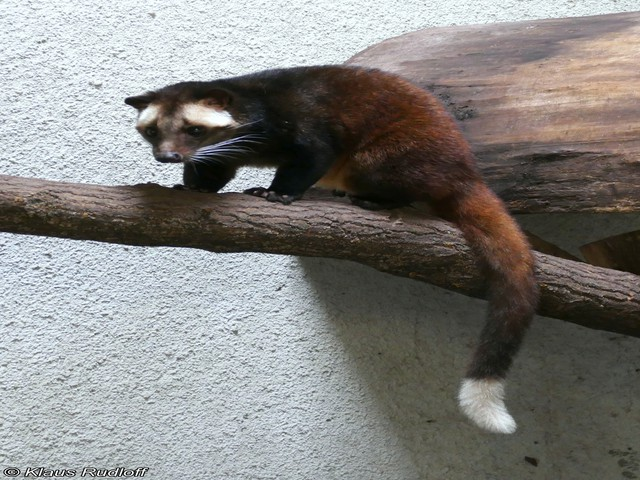civet: (121, 64, 540, 436)
